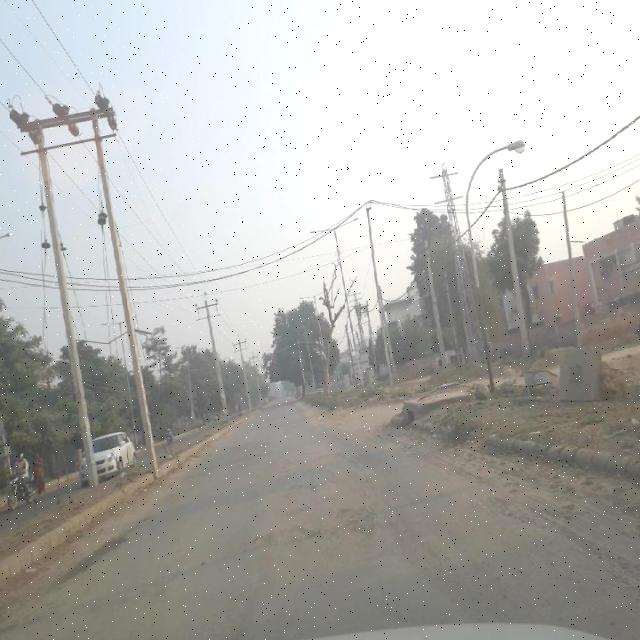D00: (196, 593, 264, 638)
D40: (244, 498, 382, 564)
